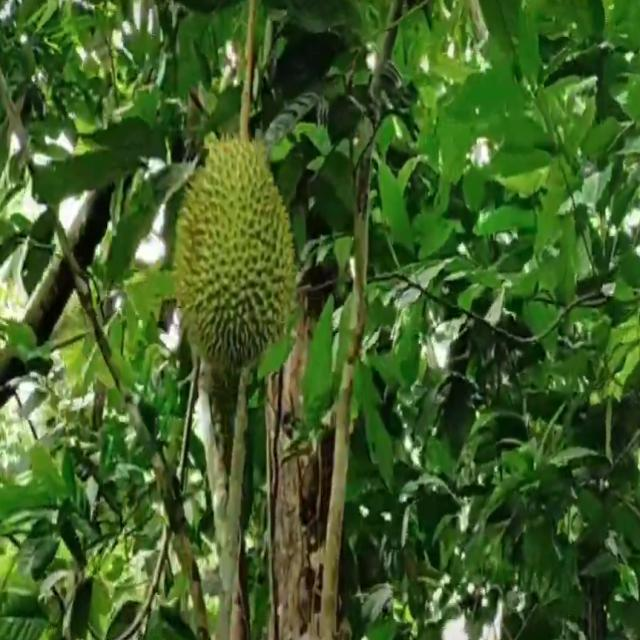immature: (168, 132, 294, 372)
